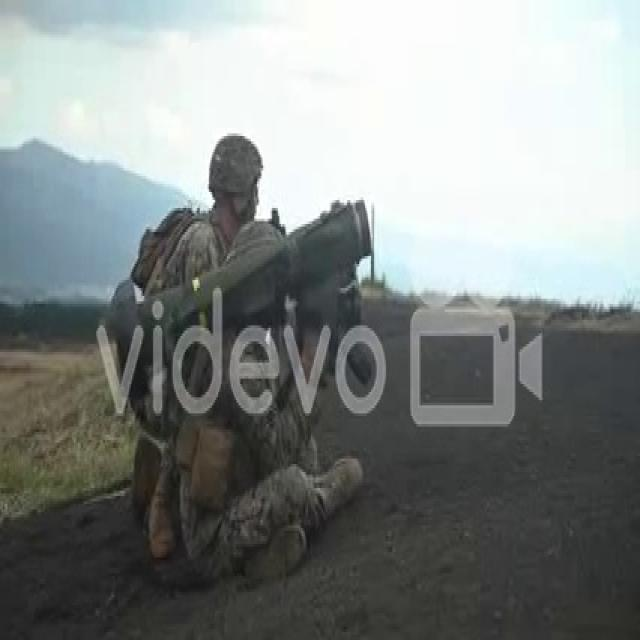bazooka: (107, 194, 377, 412)
